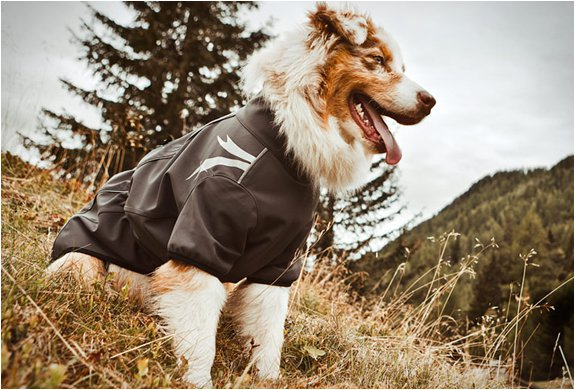dog: (109, 4, 444, 381)
